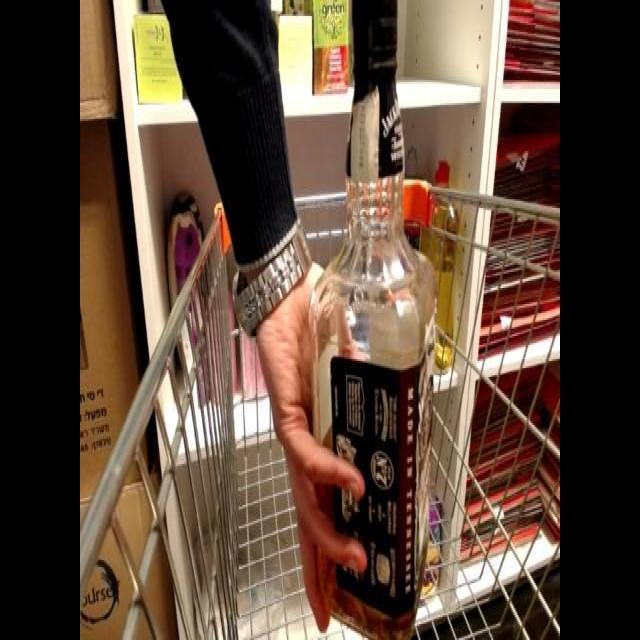Jack Daniels: (304, 2, 446, 640)
